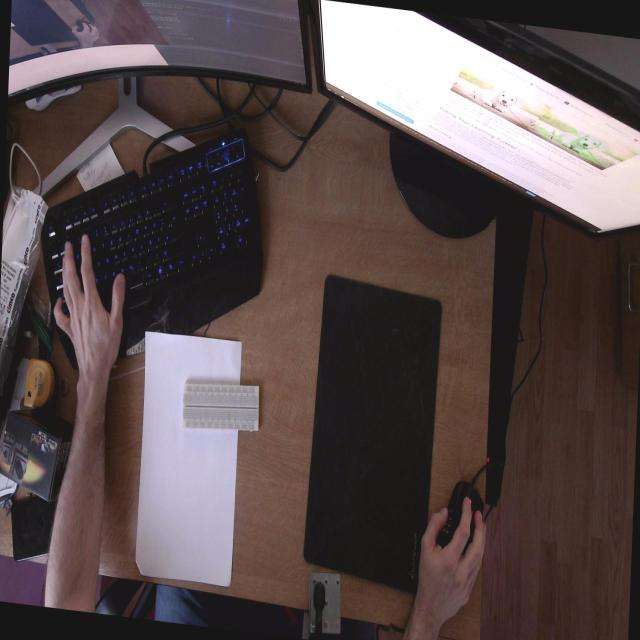keyboard-with-hands: (39, 126, 270, 380)
